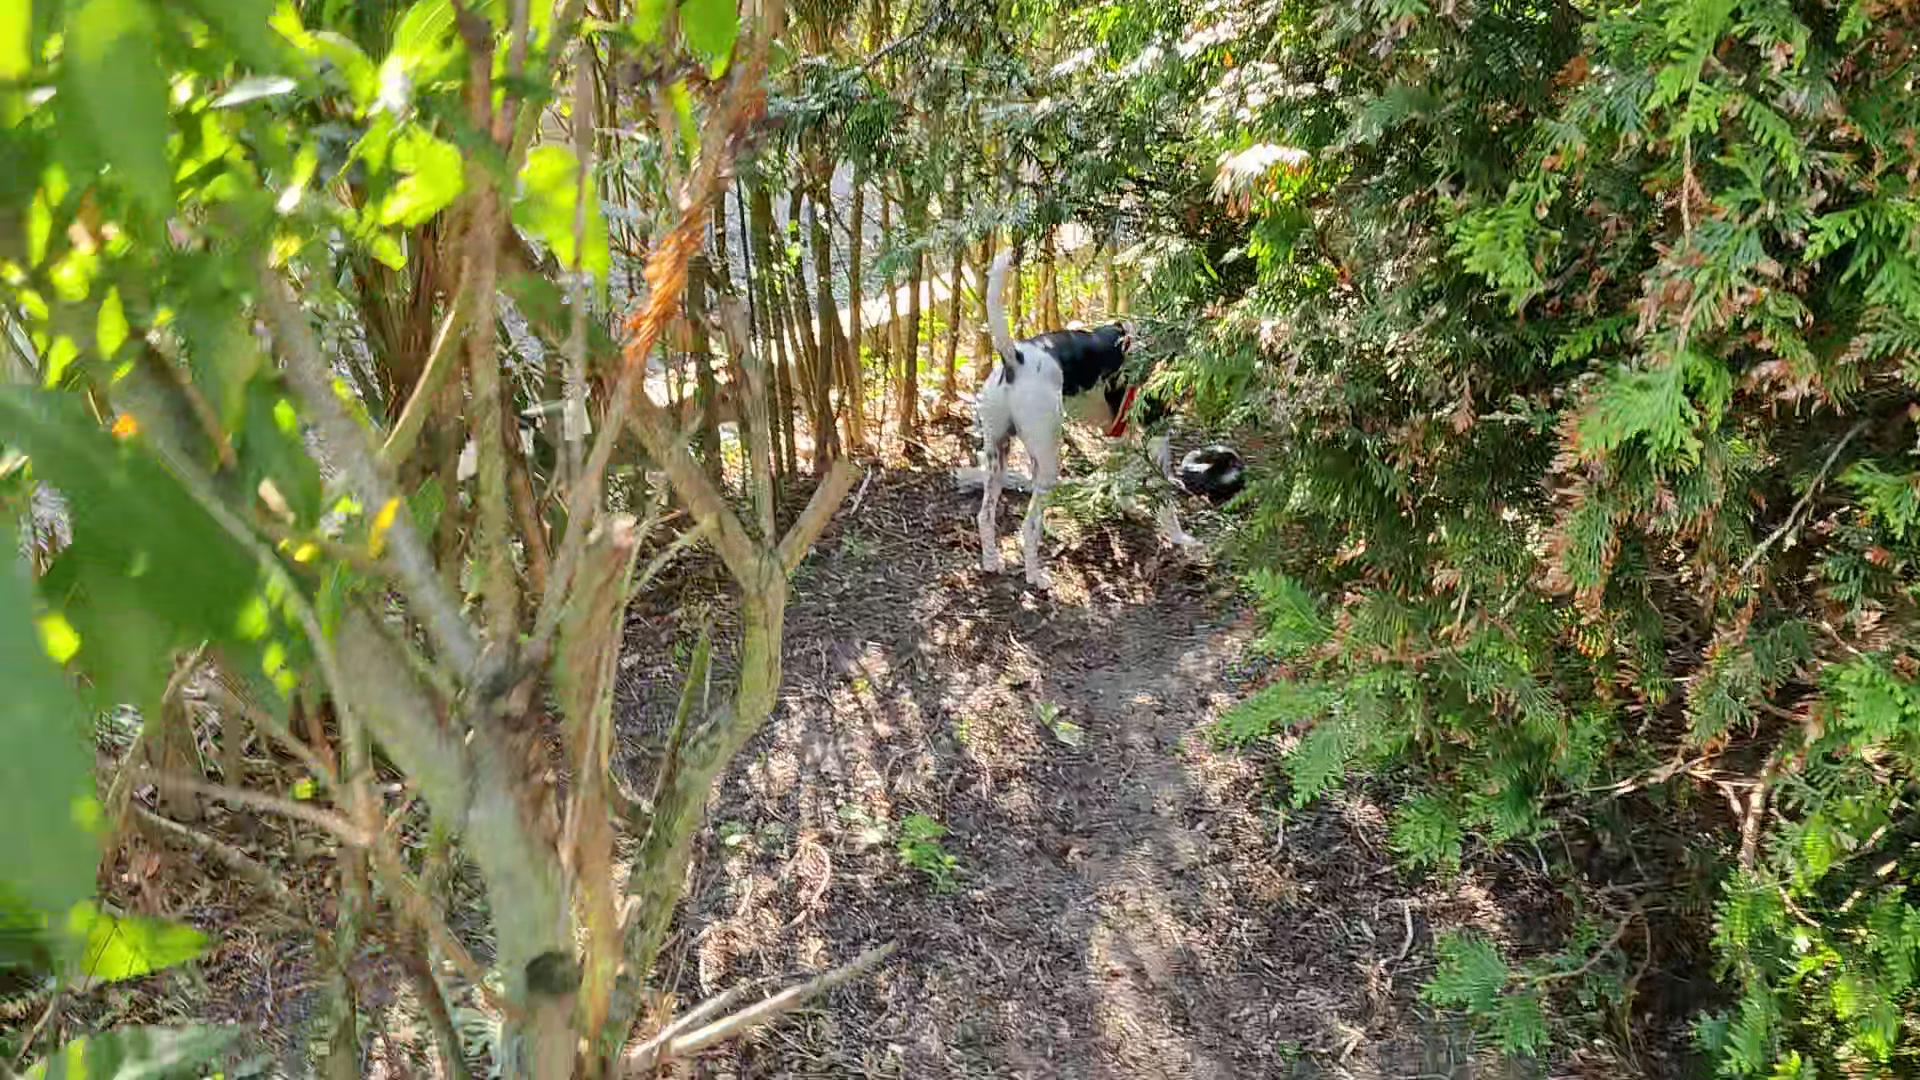Dog: (952, 244, 1290, 593)
